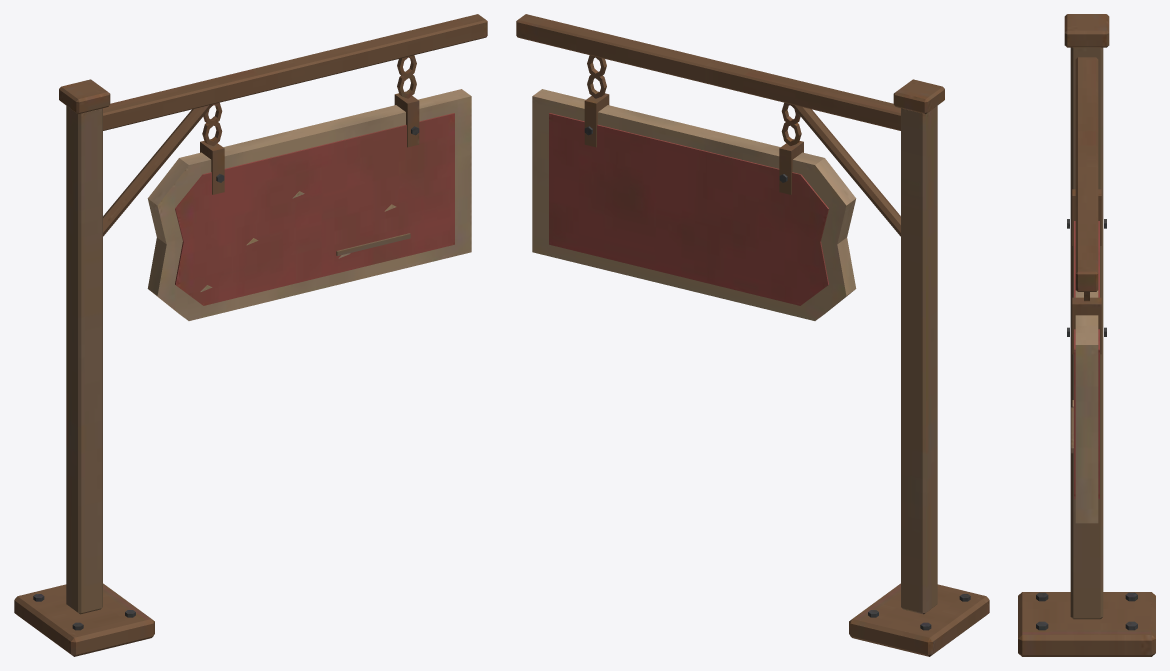
The model's file is W15_blank_shop_signboard_v3.glb.
3 views of the same model, side by side, from view 1: azimuth 30°, elevation 25°; view 2: azimuth 150°, elevation 25°; view 3: azimuth 270°, elevation 25° (orthographic). The views are drawn at different scales.
Visible parts, largest first — view 1: Foot plate; view 2: Foot plate; view 3: Foot plate.
Part boxes in pixels (x1=…): Foot plate: x1=14, y1=14, x2=487, y2=656; Foot plate: x1=516, y1=14, x2=989, y2=656; Foot plate: x1=1018, y1=14, x2=1155, y2=656.
Bounding box in the file's own units: 1.72 × 2 × 0.4076.
Materials: 5 (5 with a texture image).
